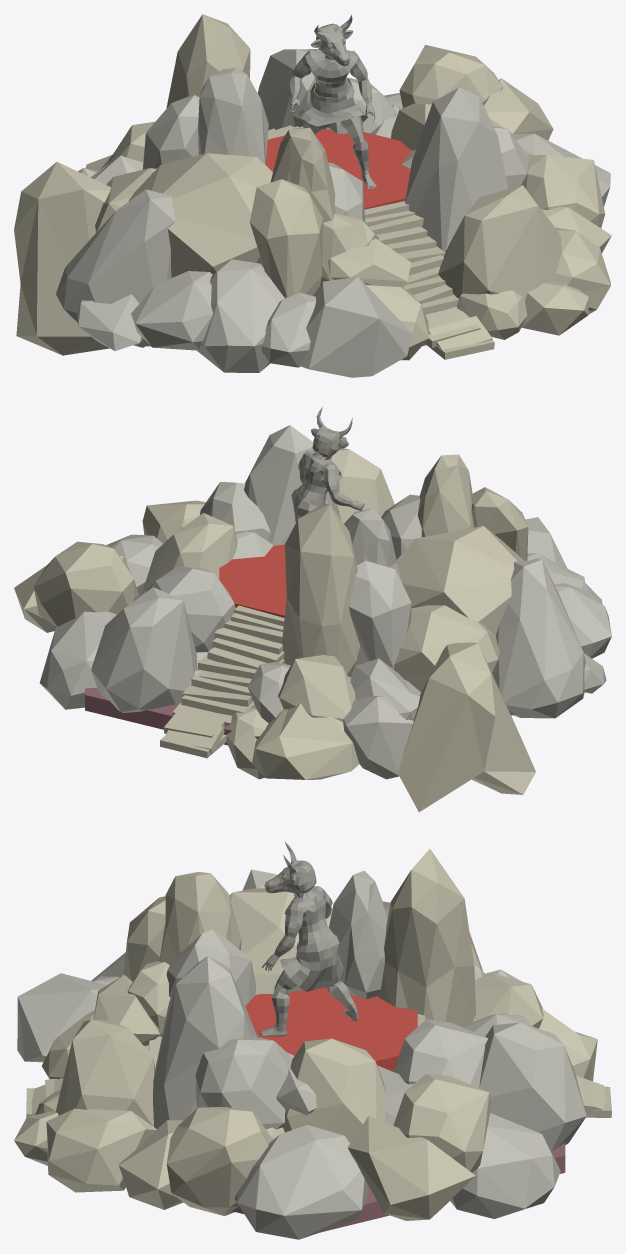
Rendered from ShrineMinotaur.fbx.
3 renders of one model, top to bottom at view 1: azimuth 30°, elevation 25°; view 2: azimuth 150°, elevation 25°; view 3: azimuth 270°, elevation 25°, orthographic. The views are drawn at different scales.
Visible parts, largest first — view 1: rock_lg_05.002, rock_lg_04.001, rock_lg_08.001, Icosphere.026, Icosphere.010, rock_md_01.001, MinotaurShrineStaircase, Icosphere.016, Icosphere.031, rock_lg_01.003, Icosphere.022, rock_lg_01.004 (+19 smaller); view 2: Icosphere.026, rock_lg_04.001, rock_lg_08.001, Icosphere.023, rock_lg_05.001, MinotaurShrineStaircase.001, rock_lg_01.003, rock_md_03.002, Icosphere.021, Icosphere.010, Icosphere.028, rock_md_02.002 (+20 smaller); view 3: rock_lg_05.002, rock_lg_01.003, Icosphere.023, rock_lg_01.004, Icosphere.029, rock_lg_05.001, Icosphere.010, Cylinder.006, rock_lg_01.002, rock_lg_05, Icosphere.028, Minotaur_Body.002 (+16 smaller).
Boxes of the visible parts, x1=… form: rock_lg_05.002: x1=438, y1=185, x2=610, y2=335; rock_lg_04.001: x1=95, y1=153, x2=272, y2=277; rock_lg_08.001: x1=56, y1=189, x2=174, y2=350; Icosphere.026: x1=14, y1=162, x2=110, y2=355; Icosphere.010: x1=405, y1=87, x2=509, y2=251; rock_md_01.001: x1=299, y1=276, x2=412, y2=377; MinotaurShrineStaircase: x1=364, y1=201, x2=494, y2=359; Icosphere.016: x1=249, y1=179, x2=322, y2=298; Icosphere.031: x1=197, y1=259, x2=284, y2=372; rock_lg_01.003: x1=399, y1=44, x2=553, y2=140; Icosphere.022: x1=198, y1=68, x2=268, y2=163; rock_lg_01.004: x1=526, y1=154, x2=611, y2=253; Icosphere.026: x1=398, y1=642, x2=535, y2=812; rock_lg_04.001: x1=394, y1=526, x2=523, y2=692; rock_lg_08.001: x1=494, y1=559, x2=606, y2=718; Icosphere.023: x1=282, y1=504, x2=360, y2=677; rock_lg_05.001: x1=91, y1=587, x2=207, y2=712; MinotaurShrineStaircase.001: x1=160, y1=605, x2=284, y2=758; rock_lg_01.003: x1=14, y1=541, x2=138, y2=632; rock_md_03.002: x1=252, y1=703, x2=359, y2=779; Icosphere.021: x1=349, y1=560, x2=411, y2=674; Icosphere.010: x1=244, y1=425, x2=341, y2=545; Icosphere.028: x1=39, y1=611, x2=116, y2=709; rock_md_02.002: x1=343, y1=696, x2=413, y2=779; rock_lg_05.002: x1=14, y1=1020, x2=156, y2=1192; rock_lg_01.003: x1=347, y1=1073, x2=491, y2=1220; Icosphere.023: x1=377, y1=848, x2=475, y2=1027; rock_lg_01.004: x1=119, y1=1106, x2=273, y2=1215; Icosphere.029: x1=234, y1=1125, x2=368, y2=1239; rock_lg_05.001: x1=479, y1=1022, x2=586, y2=1151; Icosphere.010: x1=153, y1=956, x2=257, y2=1128; Cylinder.006: x1=245, y1=987, x2=417, y2=1071; rock_lg_01.002: x1=195, y1=1036, x2=316, y2=1129; rock_lg_05: x1=266, y1=1038, x2=386, y2=1143; Icosphere.028: x1=450, y1=1113, x2=560, y2=1218; Minotaur_Body.002: x1=259, y1=841, x2=358, y2=1036.
Bounding box in the file's own units: 690 × 374 × 633.
